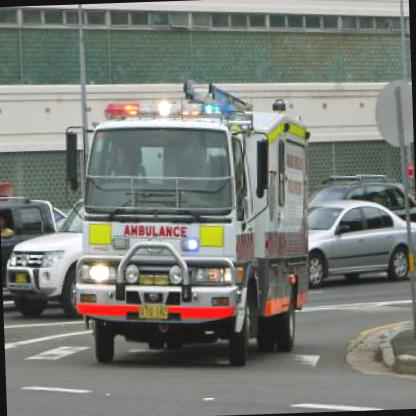truck: (63, 76, 318, 372)
